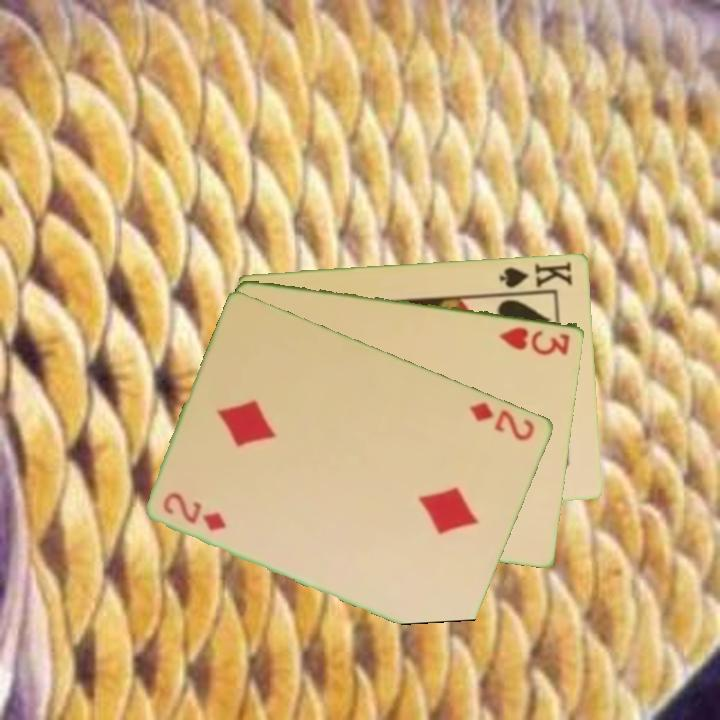2d: (467, 398, 538, 444), (160, 489, 230, 534)
3h: (496, 323, 573, 357)
Ks: (497, 257, 575, 295)
